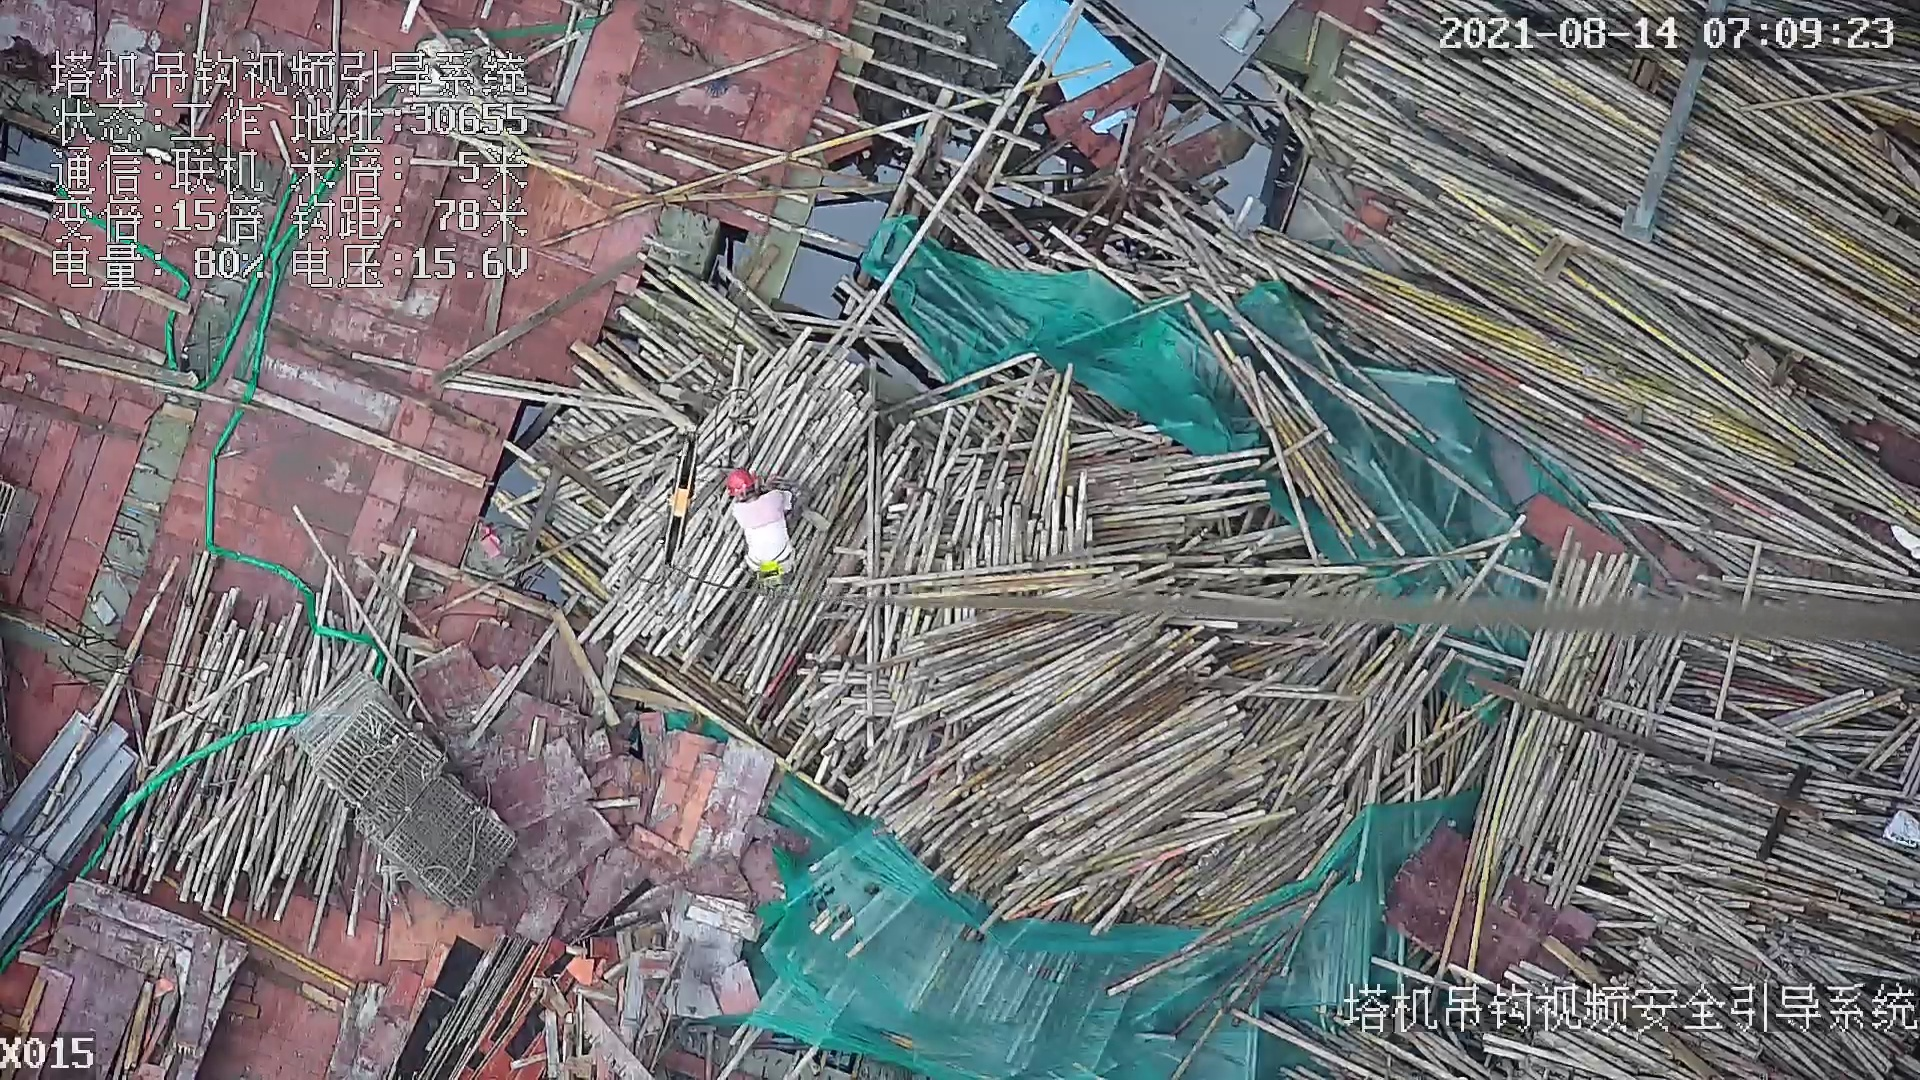helmet: (726, 469, 758, 499)
hook: (654, 415, 703, 564)
person: (728, 468, 803, 589)
